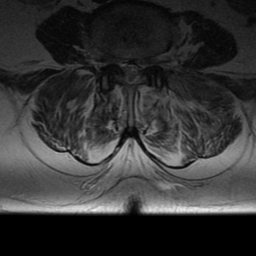CCS_normal: (125, 53, 135, 90)
LFS_normal: (144, 47, 153, 78)
LLS_normal: (135, 53, 144, 83)
RFS_normal: (110, 50, 118, 77)
RLS_normal: (118, 53, 127, 81)
